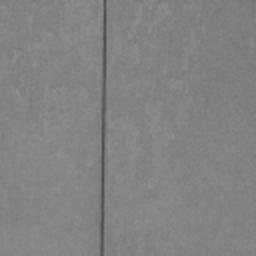Scratches: (99, 0, 107, 256)
